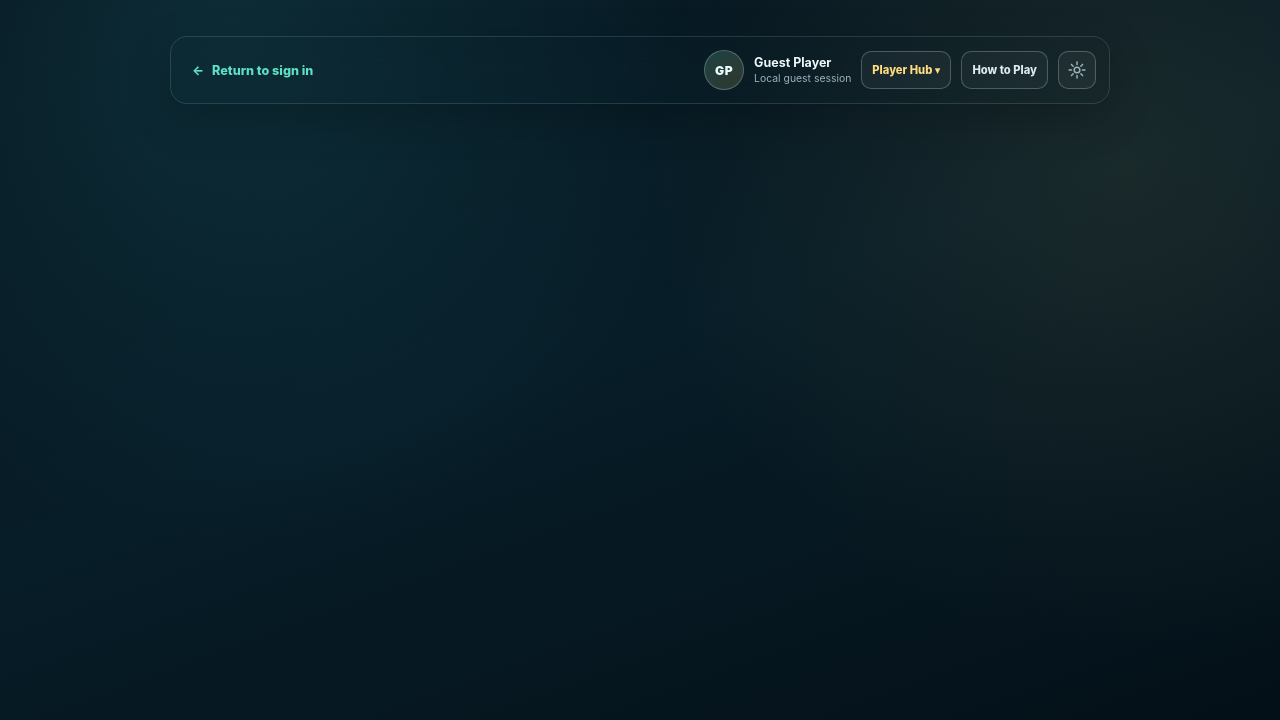
Test: AppNavbar › offers guests only the new-game action in the Player Hub
This screenshot has width=1280, height=720.
Click the button "Player Hub ▾".
click(906, 70)  # box [861,51,951,89]
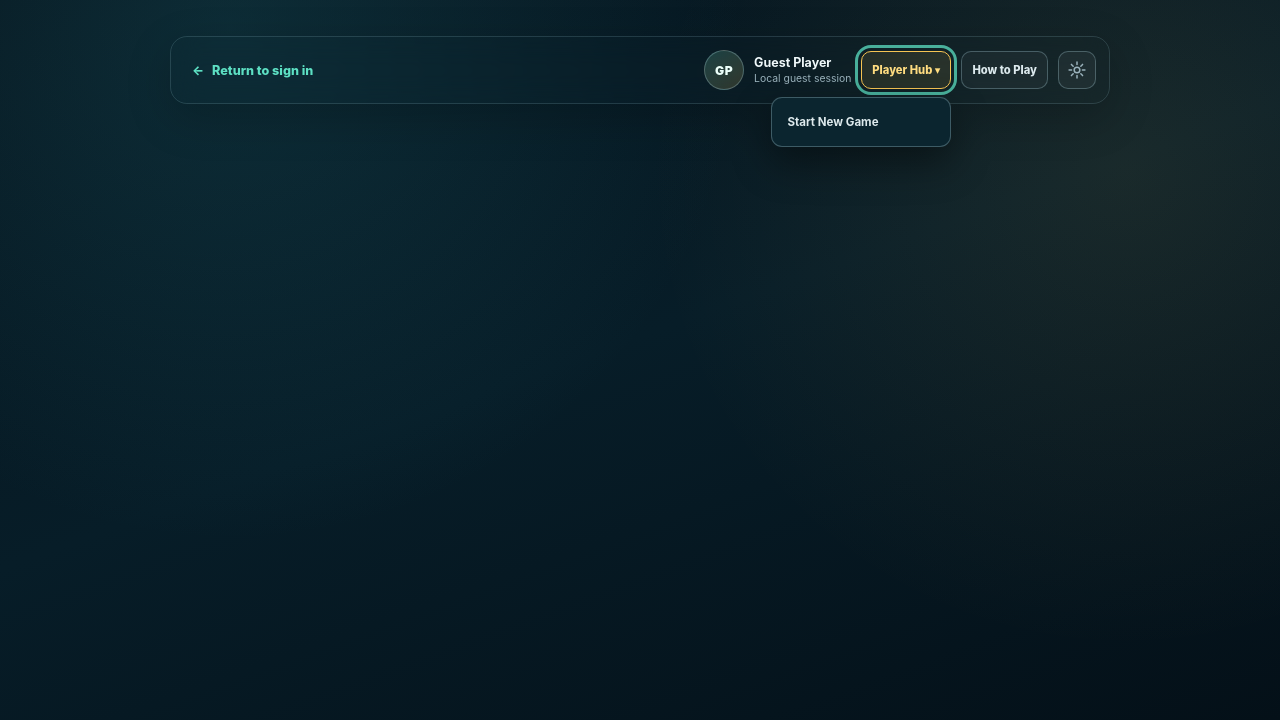
Result: the number of menu items is 1
Click the menu item "Start New Game".
click(861, 122)  # box [777,103,945,141]
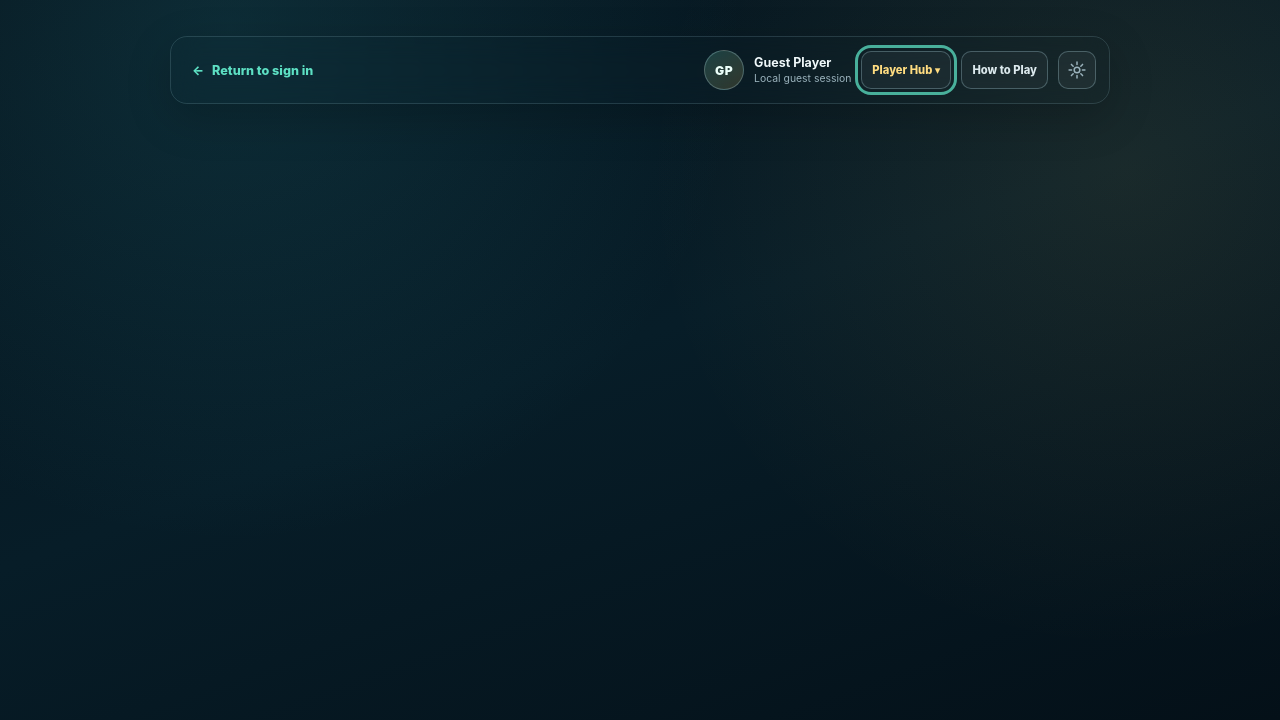
Result: the menu is gone
